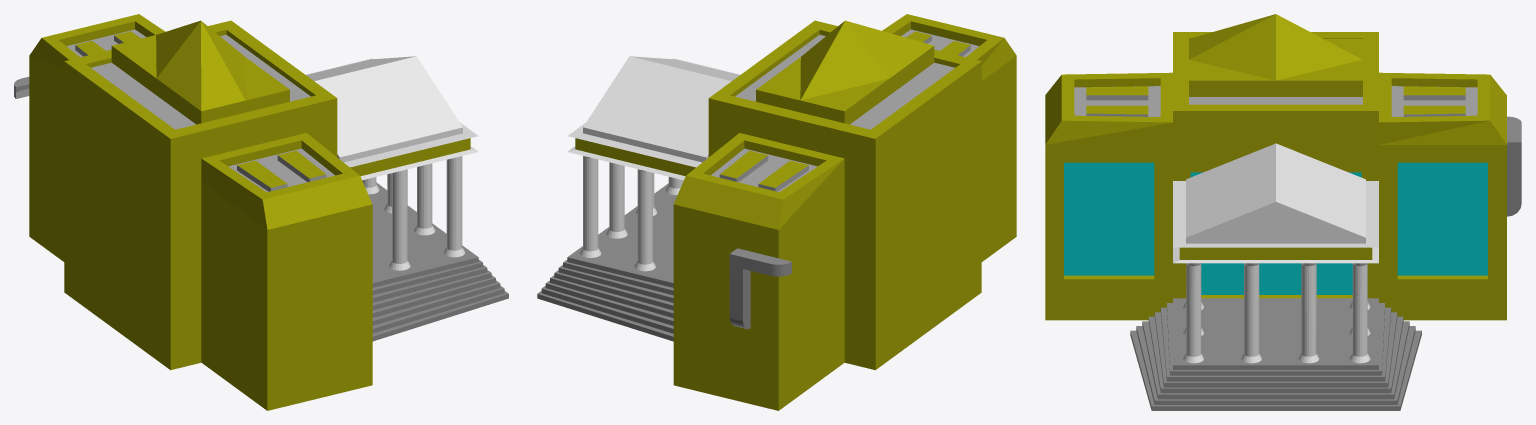
Rendered from governmentstate.fbx.
3 views of the same model, side by side, from view 1: azimuth 30°, elevation 25°; view 2: azimuth 150°, elevation 25°; view 3: azimuth 270°, elevation 25° (orthographic). The views are drawn at different scales.
Parts seen in each view (by area): view 1: building, loginroof, stairs, column, column6, column1; view 2: building, loginroof, stairs, ventilation, column4, column3, column2; view 3: building, stairs, loginroof, column2, column1, column3, column, ventilation.
Boxes of the visible parts, <box> form: building: <box>29,14,372,410</box>; loginroof: <box>305,56,478,180</box>; stairs: <box>368,182,508,341</box>; column: <box>444,156,464,257</box>; column6: <box>389,169,410,270</box>; column1: <box>414,163,435,235</box>; building: <box>673,14,1016,410</box>; loginroof: <box>568,56,740,180</box>; stairs: <box>537,183,677,341</box>; ventilation: <box>729,248,791,329</box>; column4: <box>634,169,655,271</box>; column3: <box>580,156,601,257</box>; column2: <box>606,162,627,238</box>; building: <box>1045,14,1506,320</box>; stairs: <box>1130,298,1421,410</box>; loginroof: <box>1173,143,1378,263</box>; column2: <box>1298,263,1319,363</box>; column1: <box>1241,263,1261,363</box>; column3: <box>1349,263,1370,363</box>; column: <box>1183,263,1203,363</box>; ventilation: <box>1507,116,1521,216</box>.
Size of the model in its own units: 5.99 by 5.08 by 7.79.
